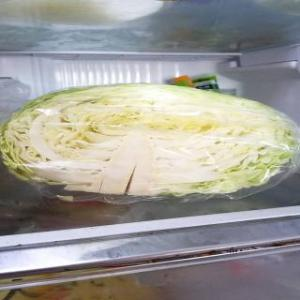cabbage: (0, 82, 298, 196)
